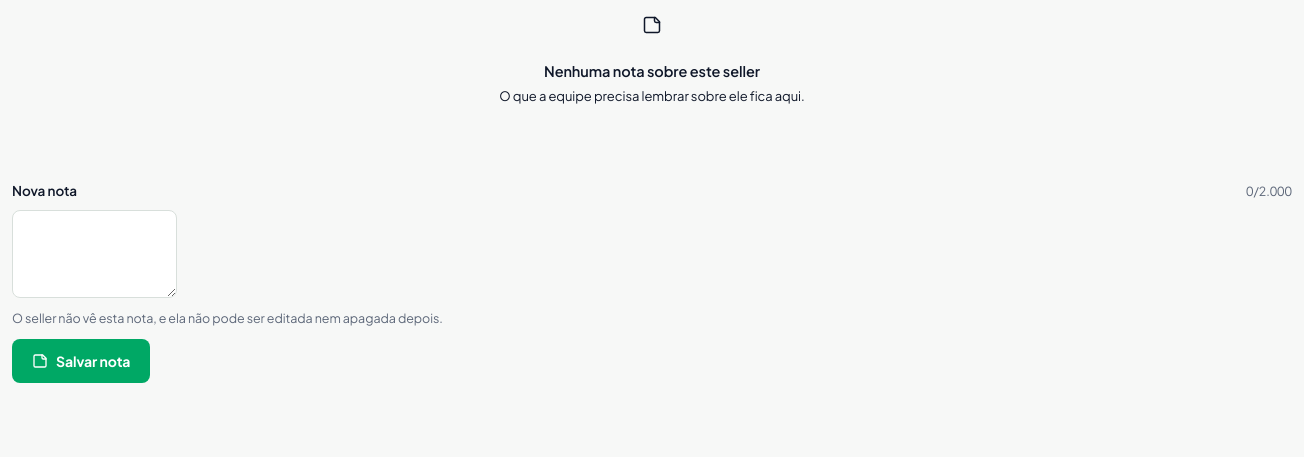
Test: notas do seller no Sellers 360 › nota curta não vai para o servidor; nota válida é salva para este seller
Later steps or results of the test are not shown.
Expected: the text "Nenhuma nota sobre este seller" is shown, [544,61,760,83]
Type "ok" into the text box labelled "Nova nota" at {"x": 94, "y": 254}, box [12,210,177,298]
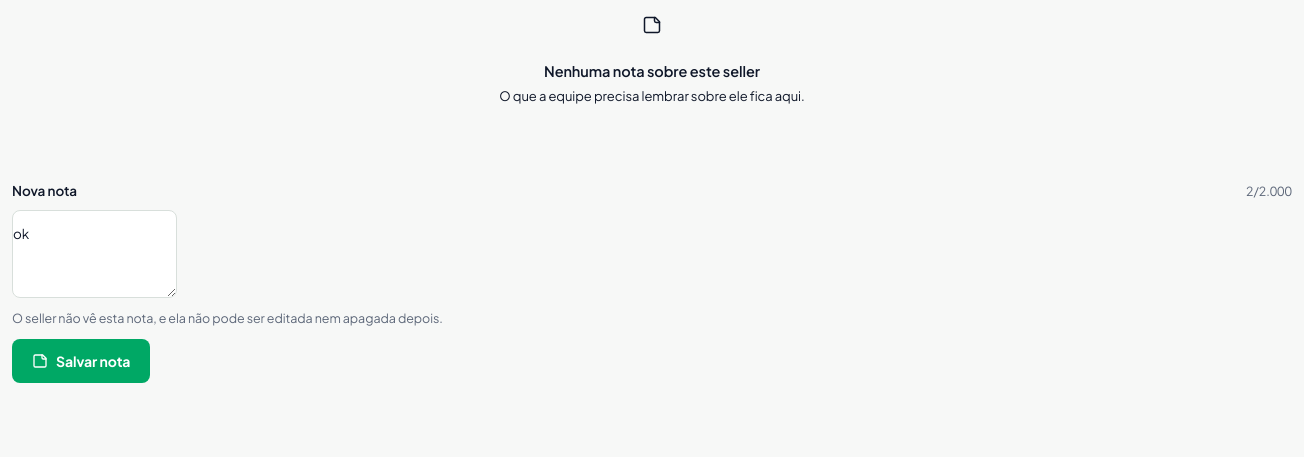
Click the button "Salvar nota" at {"x": 81, "y": 361}, box [12,339,150,383]
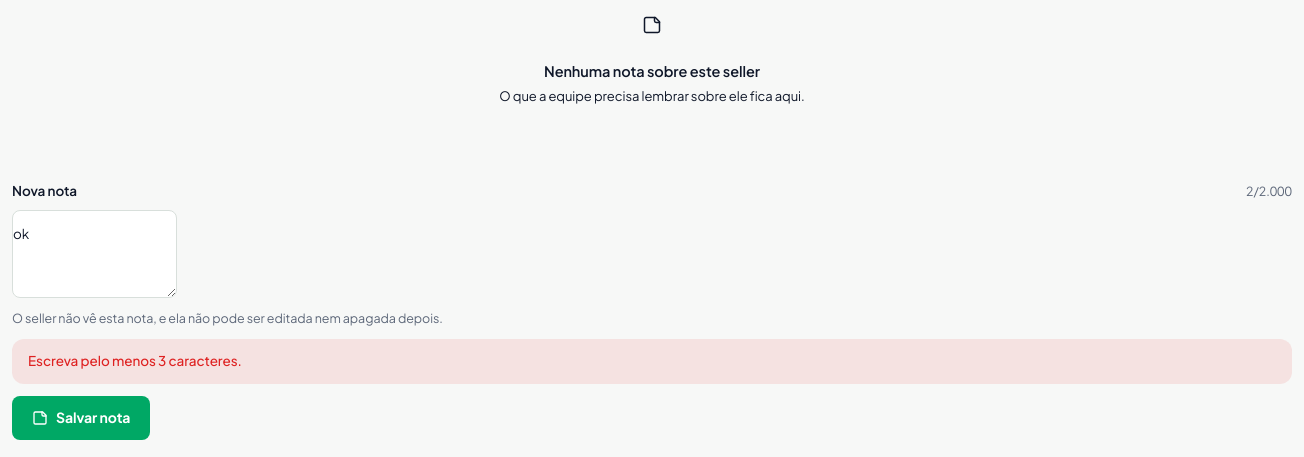
Expected: the message shows "pelo menos 3", [28,352,242,369]
